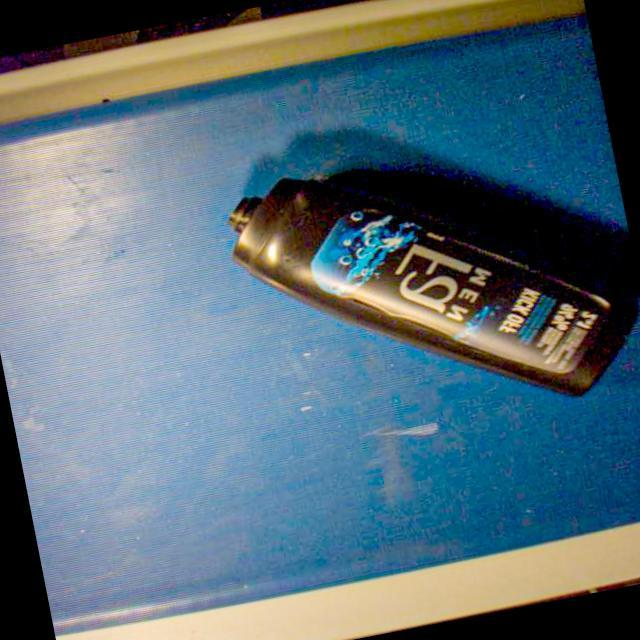HDPE Plastic: (223, 174, 638, 400)
